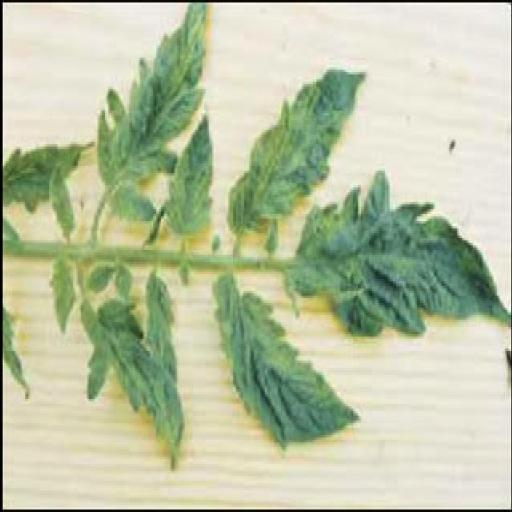disease_tomato: (283, 169, 512, 346), (226, 66, 362, 252), (214, 272, 356, 448), (96, 14, 211, 226), (75, 284, 179, 476), (166, 118, 214, 248)
